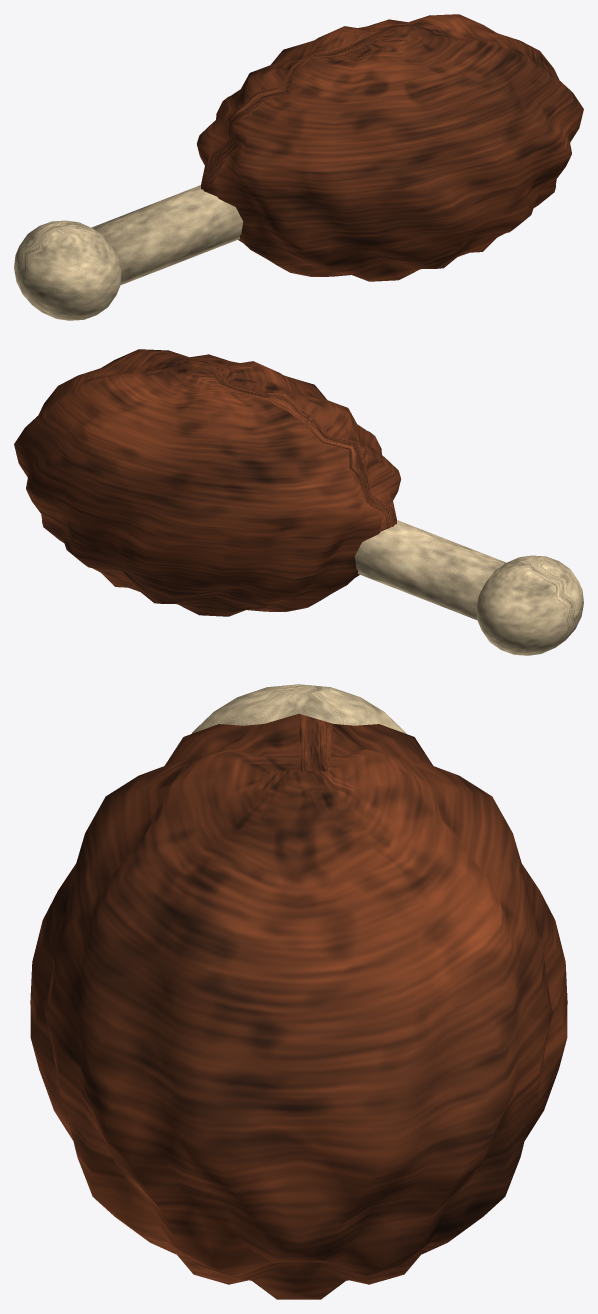
Rendered from chicken_drumstick.glb.
The picture shows the model from 3 angles, top to bottom: view 1: azimuth 30°, elevation 25°; view 2: azimuth 150°, elevation 25°; view 3: azimuth 270°, elevation 25°; orthographic projection. The views are drawn at different scales.
Parts seen in each view (by area): view 1: roast, bone; view 2: roast, bone; view 3: roast, bone.
Part boxes in pixels (bbox=[...]): roast: bbox=[197, 14, 583, 281]; bone: bbox=[14, 185, 243, 320]; roast: bbox=[14, 349, 400, 616]; bone: bbox=[354, 520, 583, 655]; roast: bbox=[30, 713, 567, 1299]; bone: bbox=[191, 684, 406, 733].
Size of the model in its own units: 0.2317 by 0.0962 by 0.0999.
2 materials, 2 textured.
